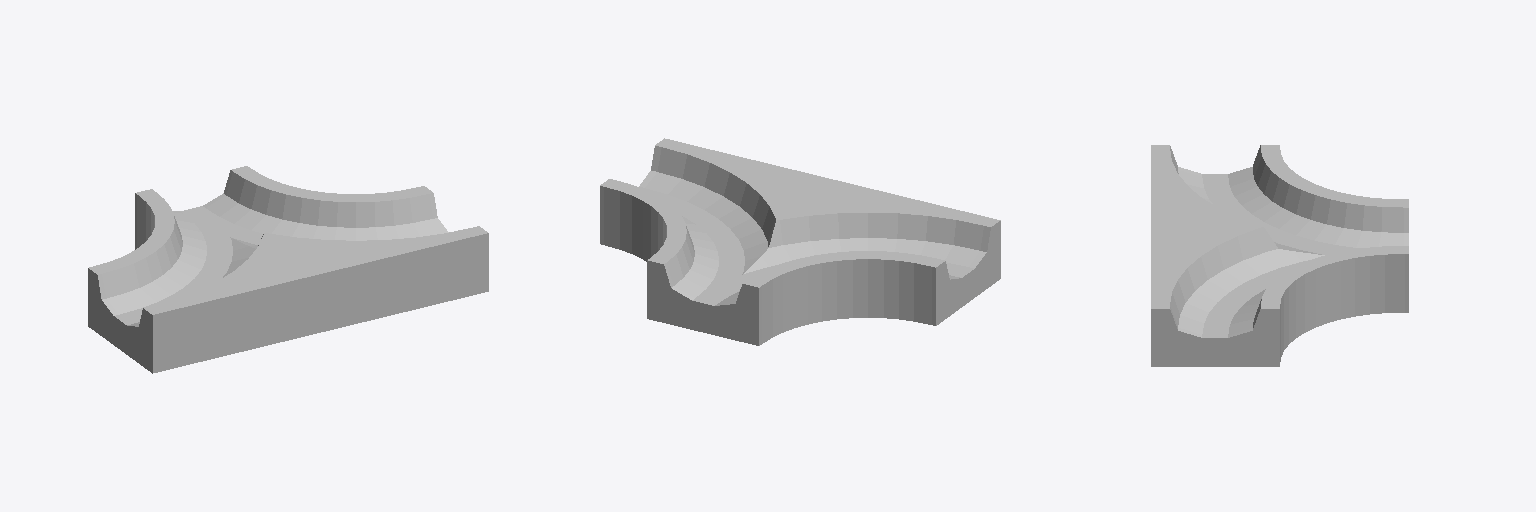
File: split-double-sides-solid.obj
3 renders of one model, left to right at view 1: azimuth 30°, elevation 25°; view 2: azimuth 150°, elevation 25°; view 3: azimuth 270°, elevation 25°, orthographic.
Visible parts, largest first — view 1: split-double-sides-solid; view 2: split-double-sides-solid; view 3: split-double-sides-solid.
Part boxes in pixels (left/top/right/bottom): split-double-sides-solid: left=88, top=166, right=488, bottom=373; split-double-sides-solid: left=600, top=138, right=1000, bottom=345; split-double-sides-solid: left=1151, top=145, right=1408, bottom=366.
Size of the model in its own units: 3 by 0.5 by 2.